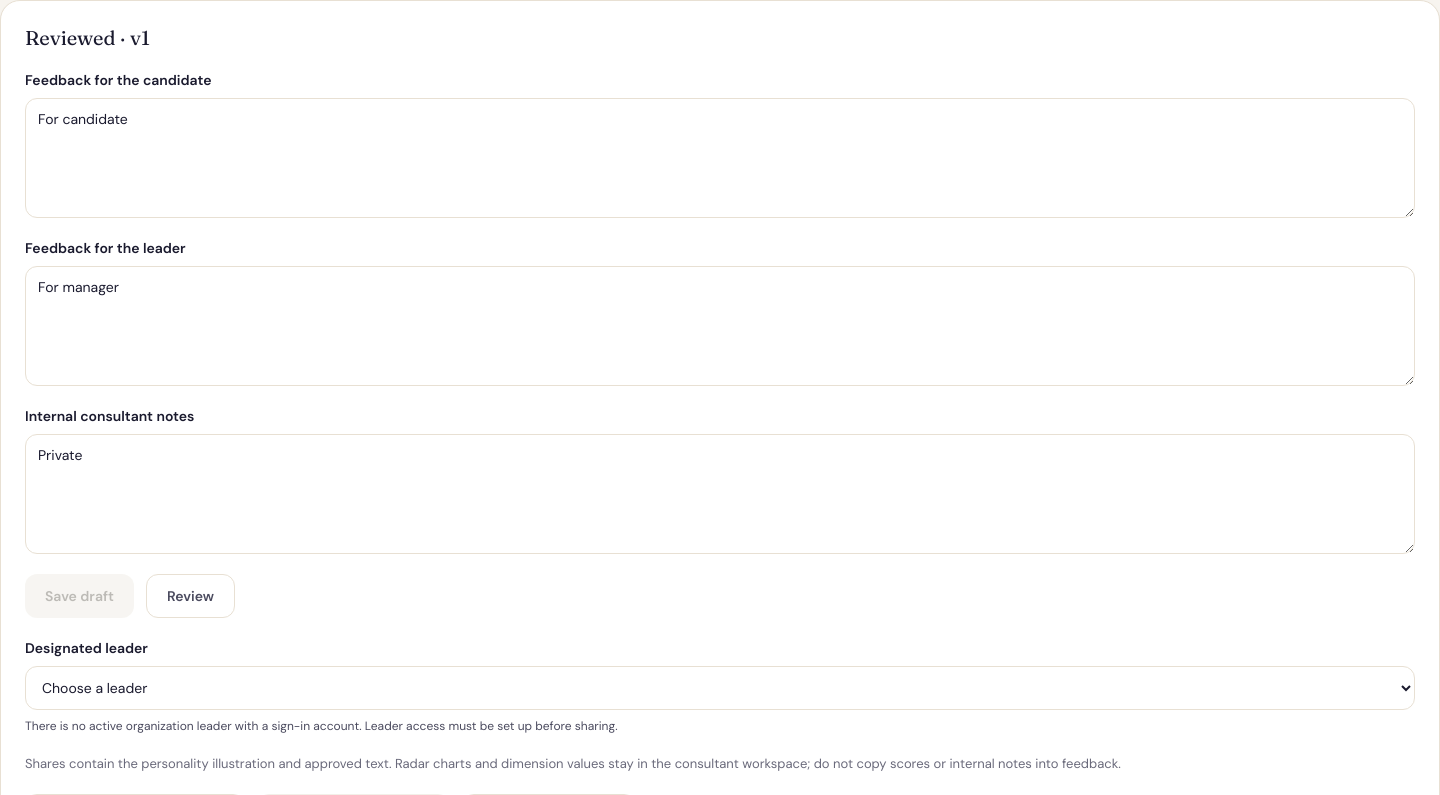
Test: requires saving changed text before review and sharing
Replace the text in the text box labelled "Feedback for the candidate" with "Changed" at (720, 158), box [25,98,1415,218]
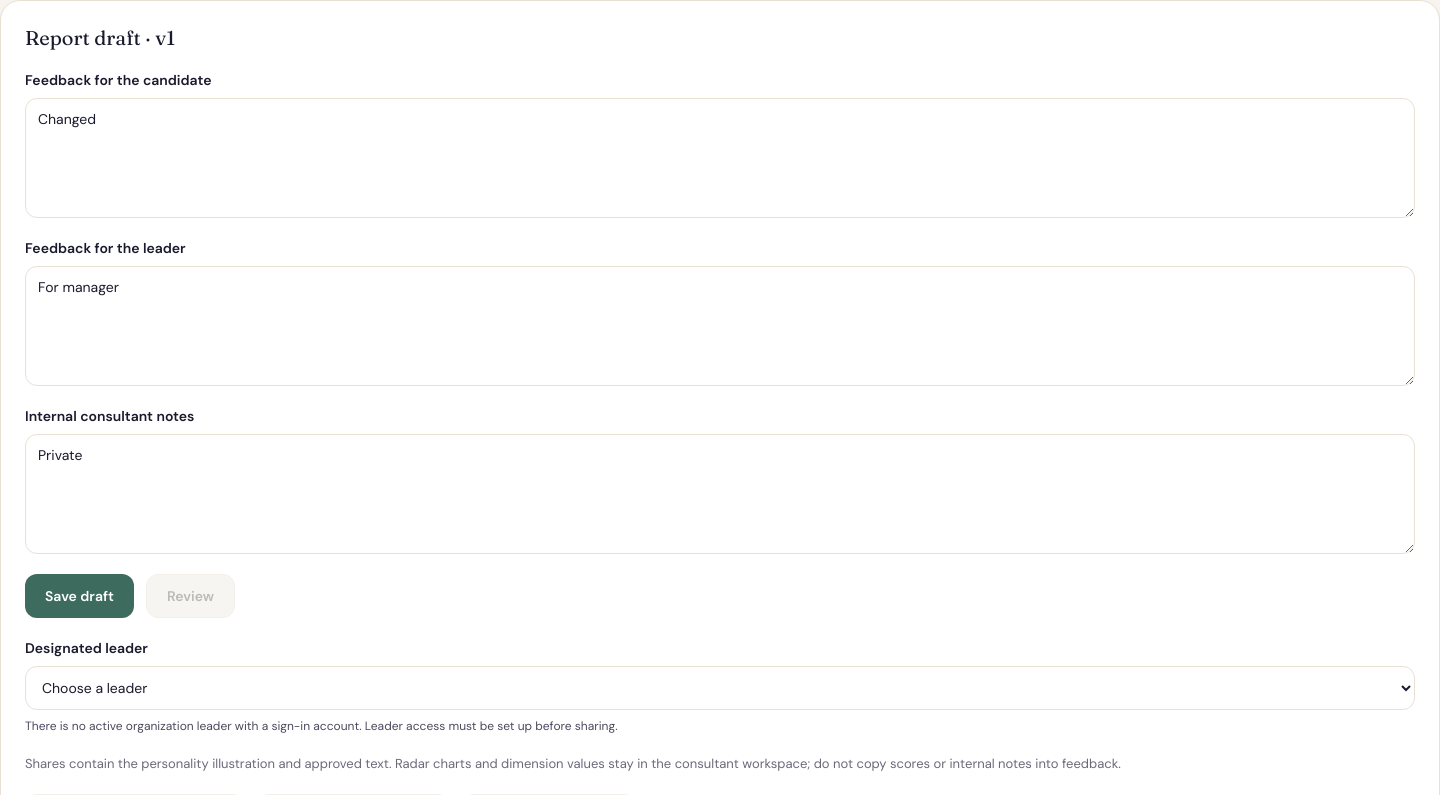
Now the button "Review" is disabled, box [146,574,235,618]
Now the button "Save draft" is enabled, box [25,574,134,618]
